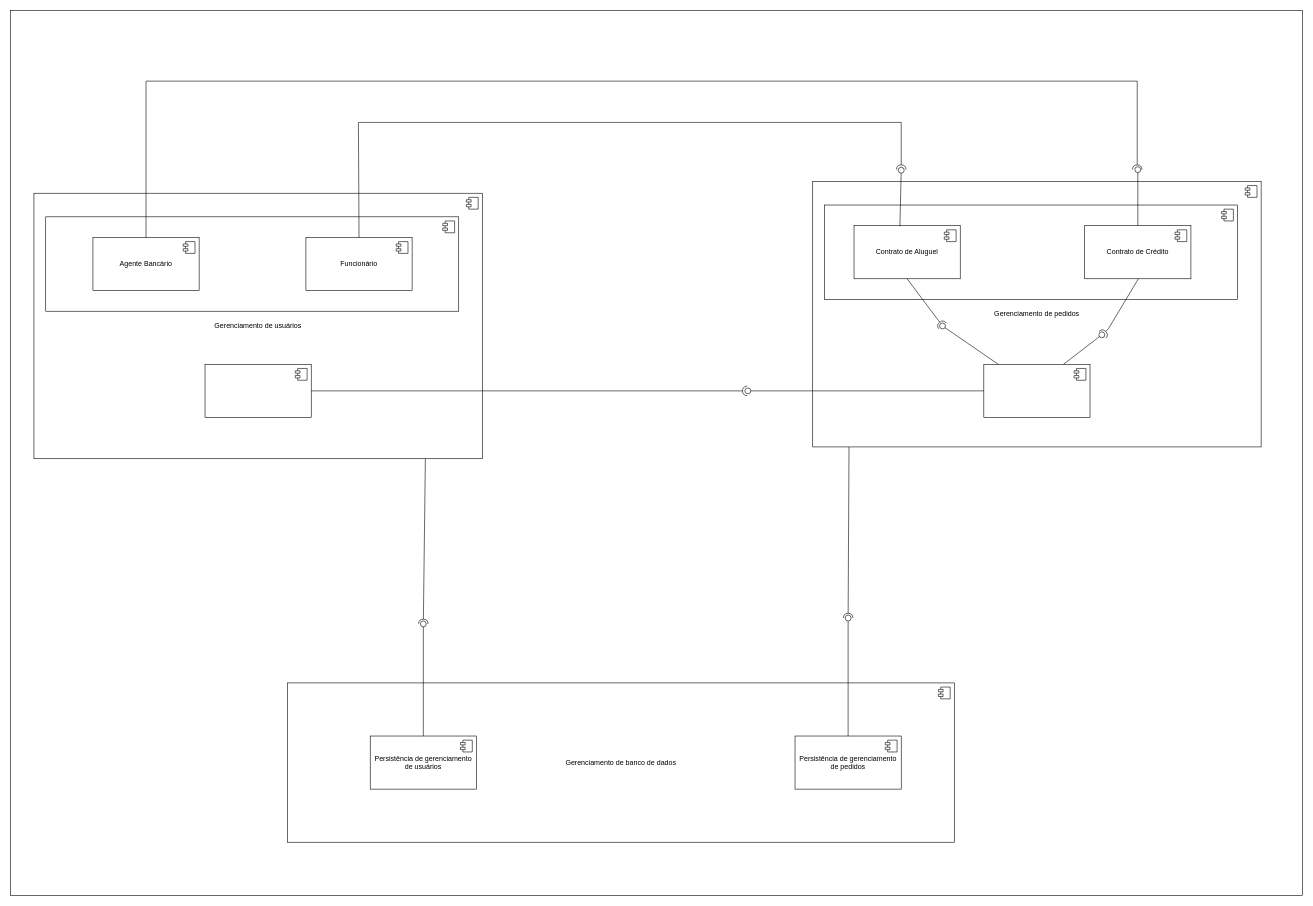
Some shapes in this 1313 by 906 pixel diagram are drawn without their labels. Here are the shapes that lost their labels. From the top down, the box of each, then its label:
(45, 216, 459, 311): Agentes
(824, 204, 1238, 299): Gerenciamento de contratos
(204, 364, 311, 417): Cliente
(983, 364, 1090, 417): Pedido
